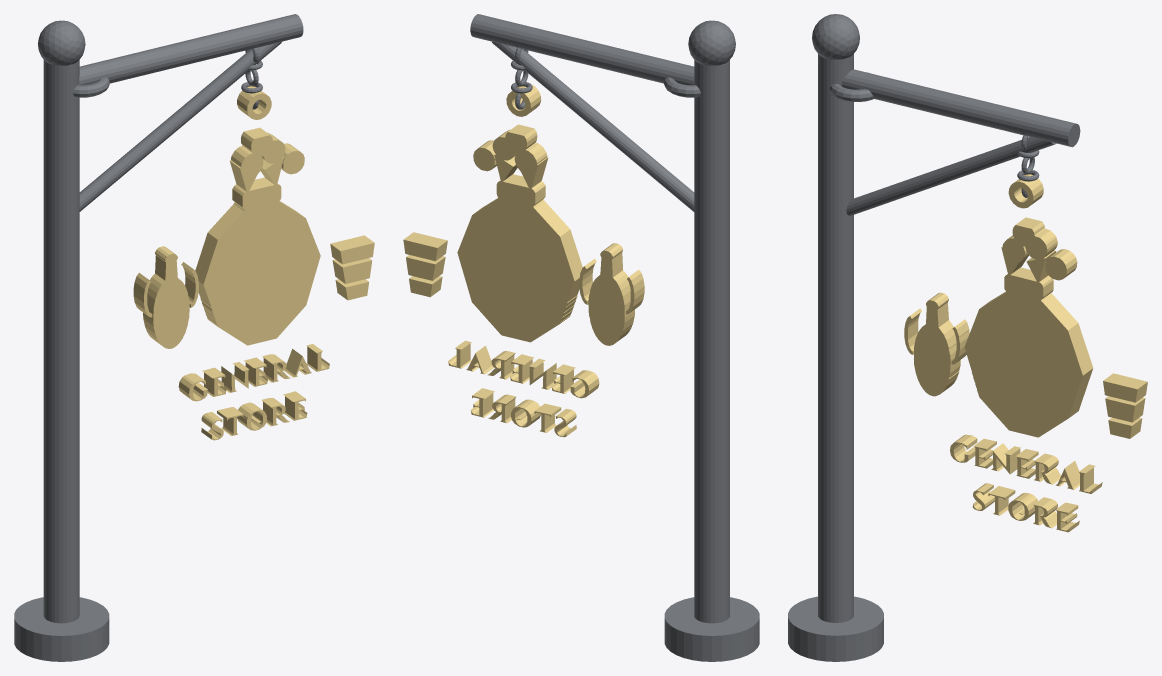
The model's file is general_store.glb.
3 renders of one model, left to right at view 1: azimuth 30°, elevation 25°; view 2: azimuth 150°, elevation 25°; view 3: azimuth 330°, elevation 25°, orthographic.
Parts seen in each view (by area): view 1: sign, post, arm, post_base, brace, post_cap; view 2: sign, post, arm, post_base, brace, post_cap; view 3: sign, post, arm, post_base, brace, post_cap, scroll.
Boxes of the visible parts, <box> form: sign: <box>133,86,374,440</box>; post: <box>43,60,79,623</box>; arm: <box>79,14,303,85</box>; post_base: <box>14,597,109,661</box>; brace: <box>79,41,281,211</box>; post_cap: <box>38,20,85,65</box>; sign: <box>403,84,644,437</box>; post: <box>694,60,729,623</box>; arm: <box>470,14,694,85</box>; post_base: <box>664,597,759,661</box>; brace: <box>492,42,694,211</box>; post_cap: <box>688,20,735,65</box>; sign: <box>904,174,1147,532</box>; post: <box>818,54,853,622</box>; arm: <box>841,69,1080,147</box>; post_base: <box>788,596,883,661</box>; brace: <box>846,137,1056,215</box>; post_cap: <box>812,14,859,59</box>; scroll: <box>829,72,874,101</box>.
Bounding box in the file's own units: 1.68 × 2.86 × 0.3978.
